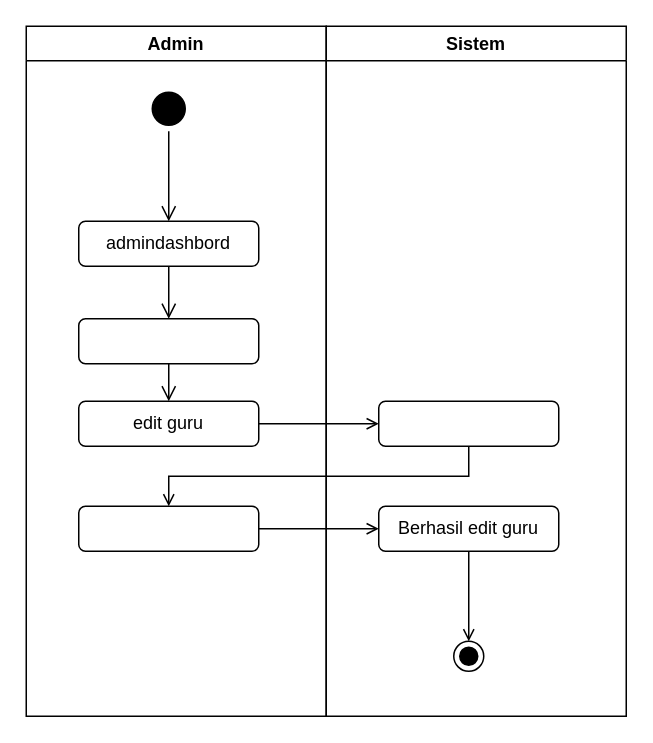
This 653x743 diagram has some shape labels left out. The centre of each missing label's shape, as x and y in pixels:
edit form, nama guru, jenis kelamin, dll: (x=168, y=528)
get id_staff: (x=468, y=423)
pilih menu guru: (x=168, y=340)
